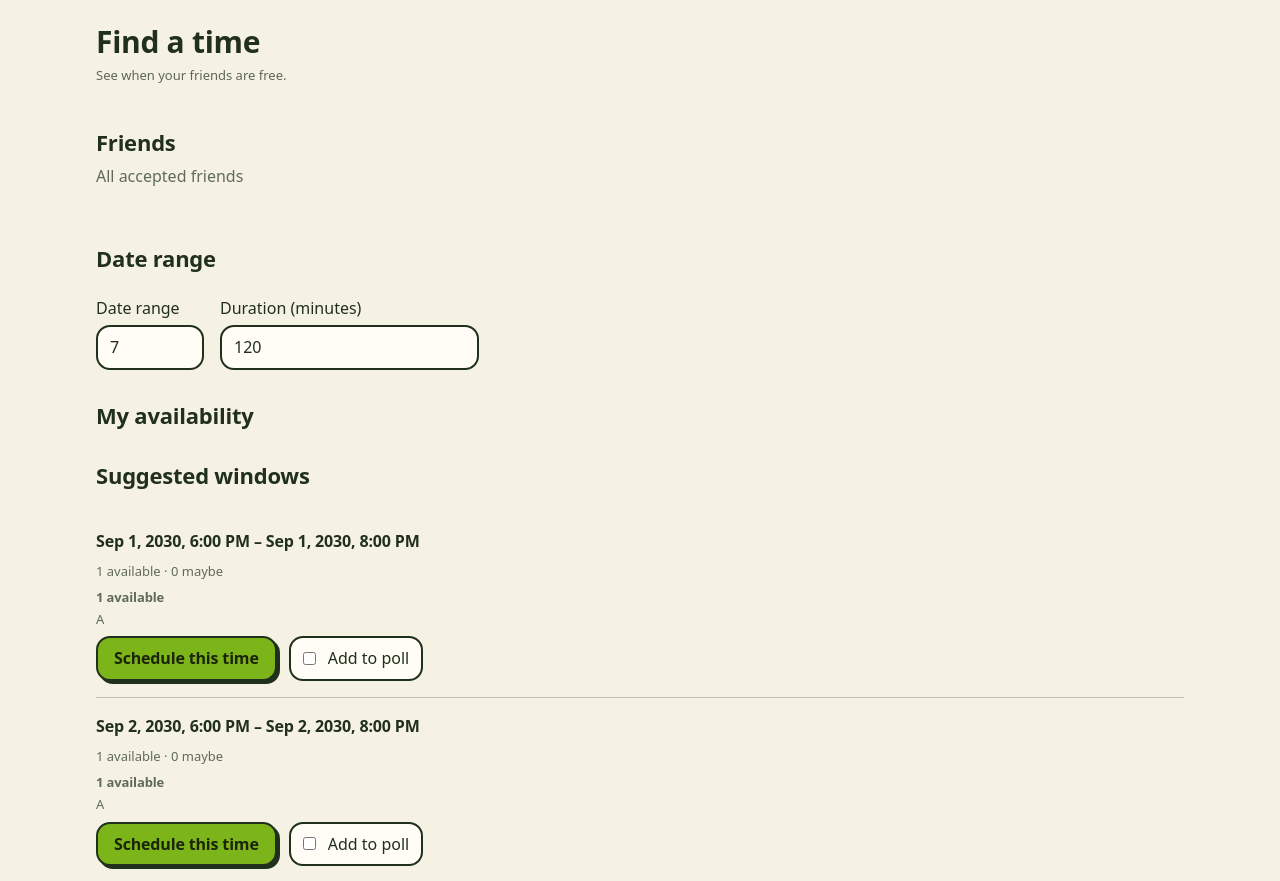
Test case: FindATimePage › accumulates selected windows into a repeated startTimes poll-arm url_D102
The width and height of the screenshot is (1280, 881).
Expected: the text "Create poll with selected times" is not shown
Click the checkbox labelled "Add to poll" below "Sep 1, 2030, 6:00 PM": (309, 659) [303,652,316,665]
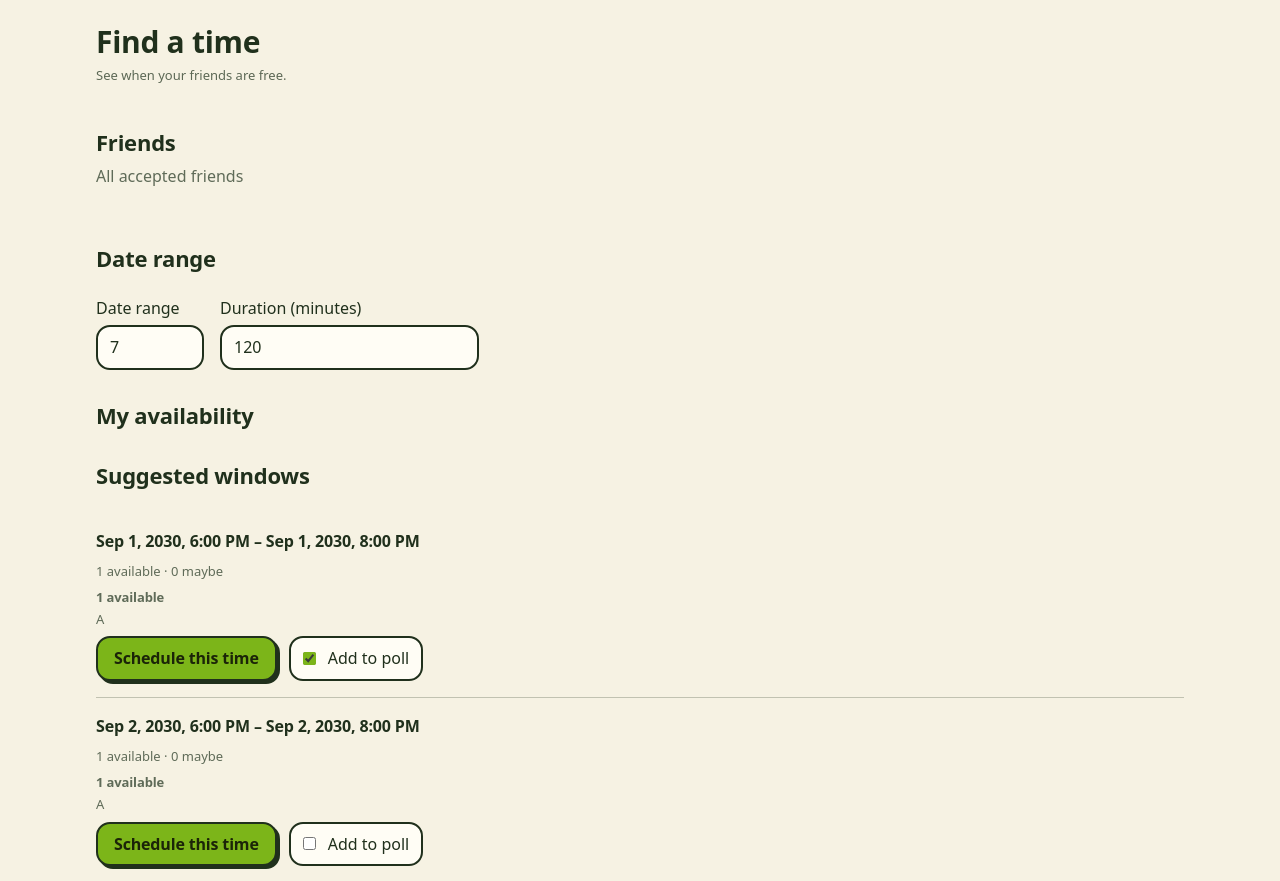
Click the checkbox labelled "Add to poll" below "Sep 2, 2030, 6:00 PM": (309, 844) [303,837,316,850]
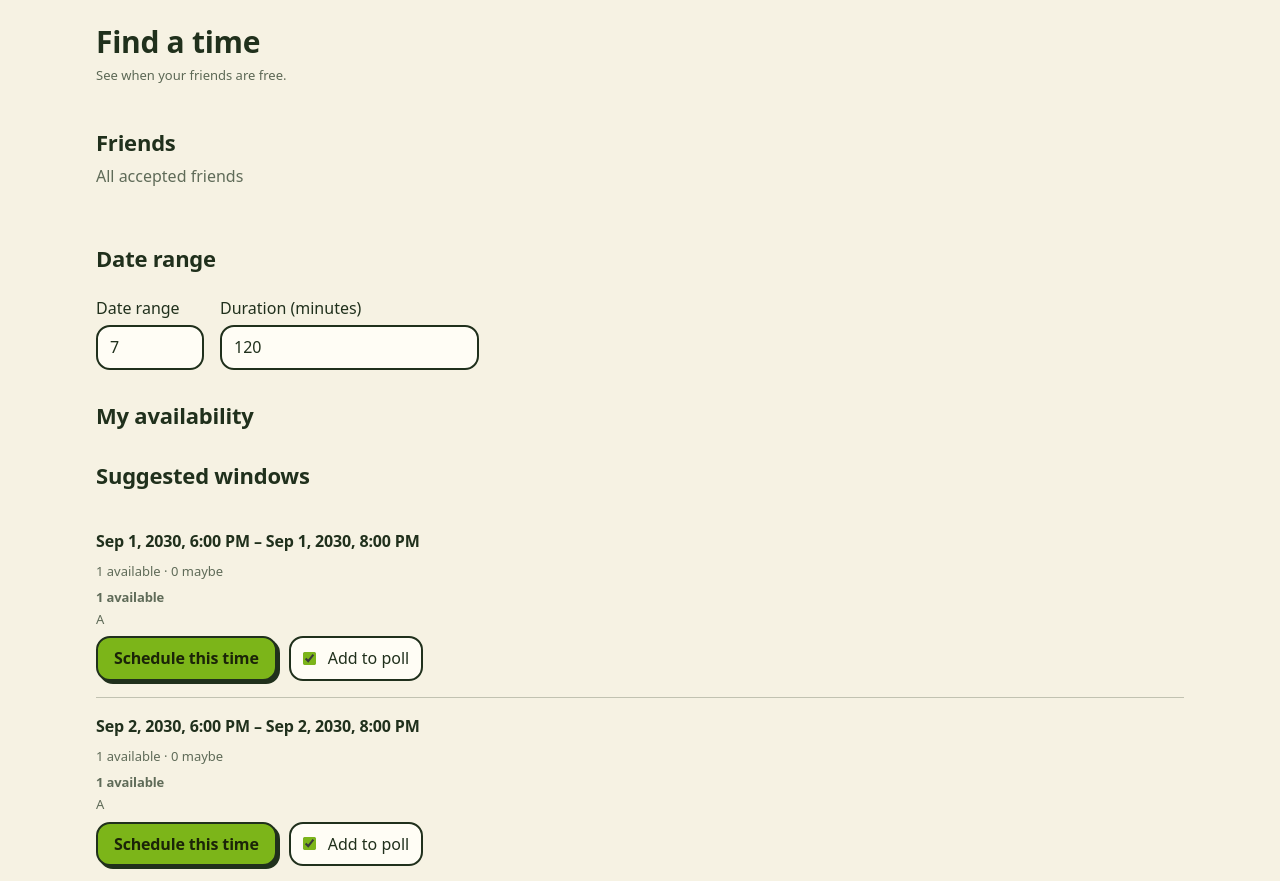
// Deselecting one window removes it from the accumulated set, never the other.
Click the checkbox labelled "Add to poll" below "Sep 1, 2030, 6:00 PM": (309, 659) [303,652,316,665]
(page scrolled)
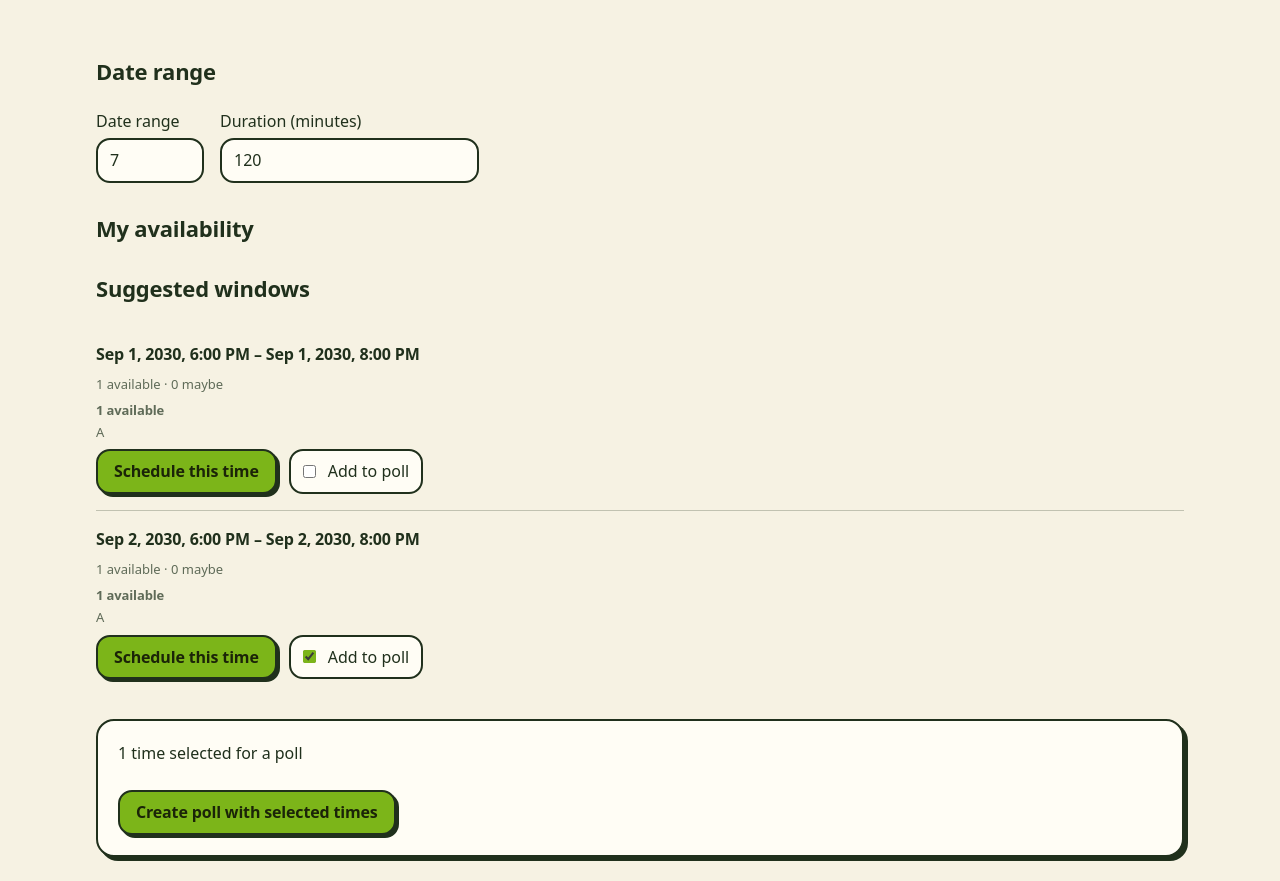
Expected: the text "1 time selected for a poll" is shown, [118,742,302,764]
